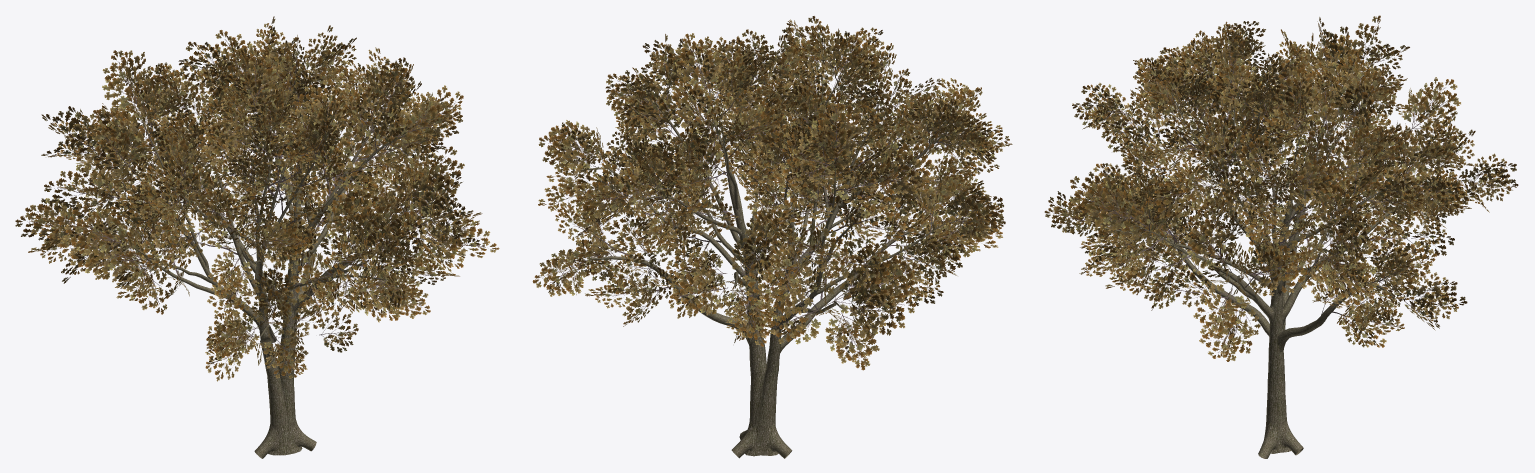
File: SM_FAR_PostOak_01.fbx
3 renders of one model, left to right at view 1: azimuth 30°, elevation 25°; view 2: azimuth 150°, elevation 25°; view 3: azimuth 270°, elevation 25°, orthographic. The views are drawn at different scales.
Parts seen in each view (by area): view 1: SM_FAR_PostOak_01.mo; view 2: SM_FAR_PostOak_01.mo; view 3: SM_FAR_PostOak_01.mo.
Boxes of the visible parts, x1,y1,x2,y2 form: SM_FAR_PostOak_01.mo: [15, 16, 499, 458]; SM_FAR_PostOak_01.mo: [532, 16, 1012, 458]; SM_FAR_PostOak_01.mo: [1044, 15, 1518, 458].
Size of the model in its own units: 1168 by 1116 by 1172.
